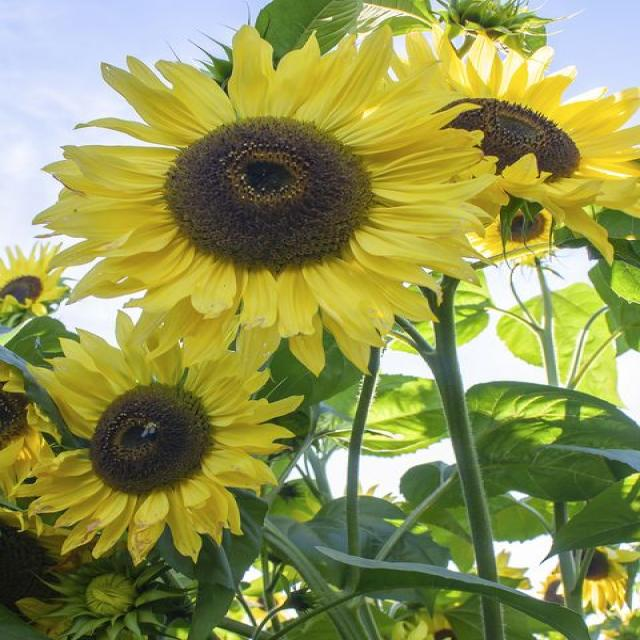sunflower: (34, 11, 515, 348), (5, 318, 299, 562), (368, 19, 640, 214)
